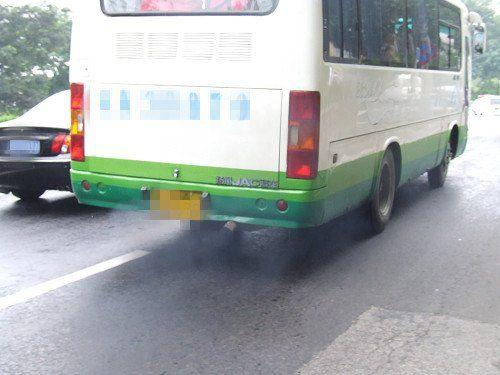smoke: (145, 231, 267, 289)
